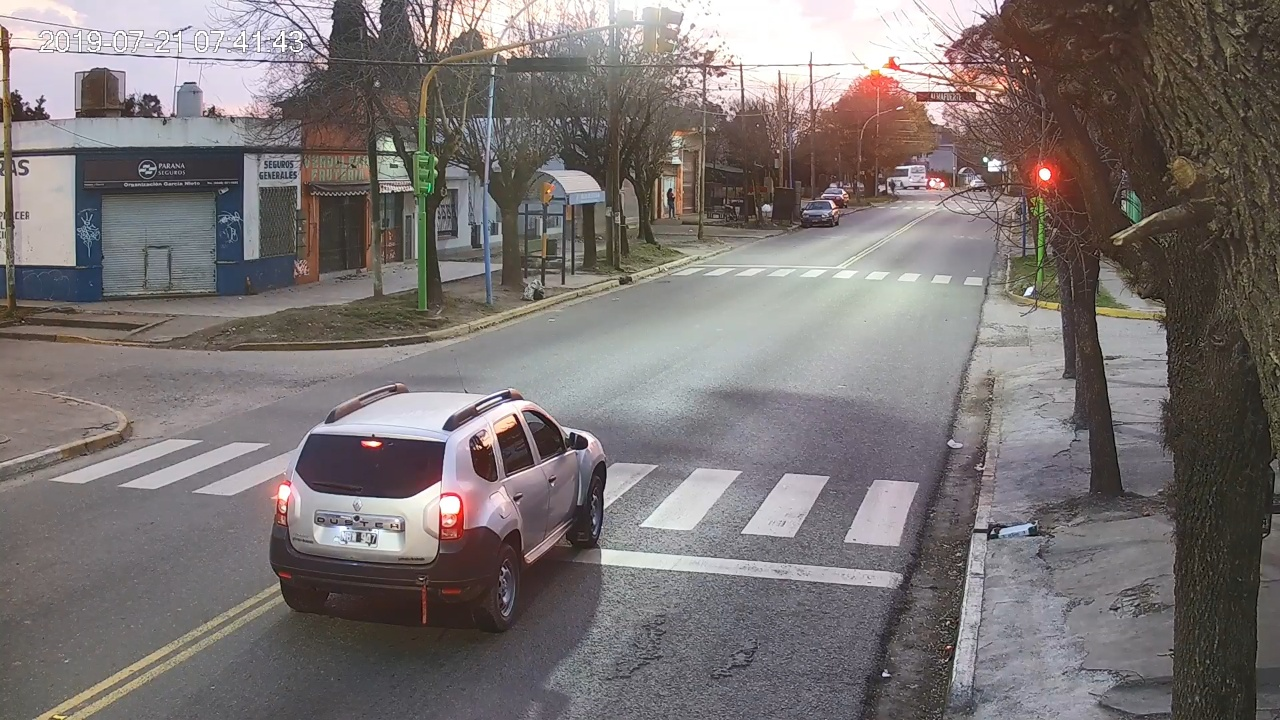car: (270, 382, 607, 632)
